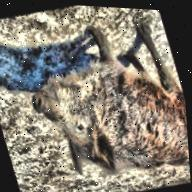boar: (11, 6, 192, 192)
